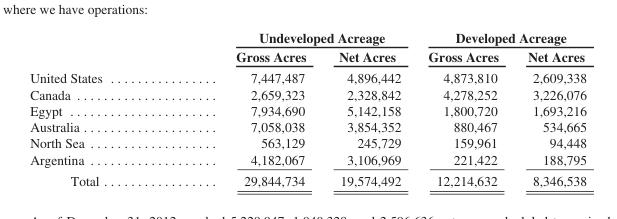table: (29, 29, 586, 188)
table column: (168, 29, 321, 188), (29, 29, 168, 188), (414, 29, 512, 188), (321, 29, 414, 188), (512, 29, 586, 188)
table column header: (29, 29, 586, 66)
table row: (29, 46, 586, 66), (29, 66, 586, 85), (29, 150, 586, 169), (29, 169, 586, 188), (29, 29, 586, 46), (29, 85, 586, 102), (29, 102, 586, 118), (29, 118, 586, 134), (29, 134, 586, 150)
table spanning cell: (168, 29, 414, 46), (414, 29, 586, 46)
